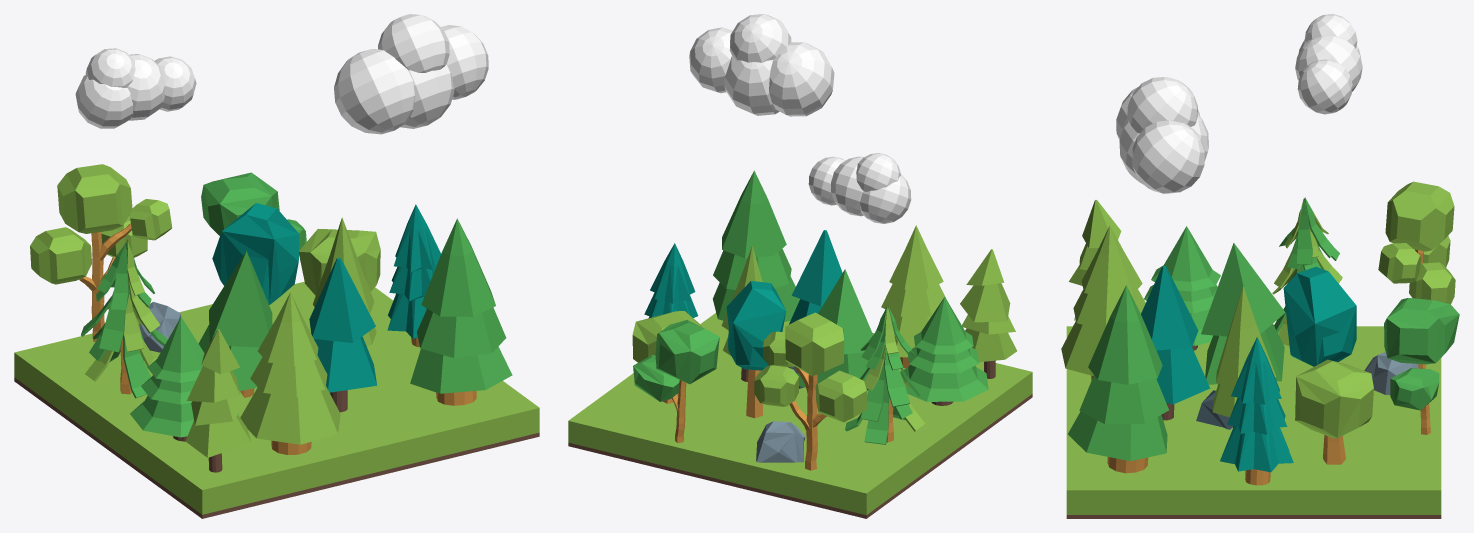
Rendered from tree.gltf.
3 renders of one model, left to right at view 1: azimuth 30°, elevation 25°; view 2: azimuth 150°, elevation 25°; view 3: azimuth 270°, elevation 25°, orthographic. The views are drawn at different scales.
Visible parts, largest first — view 1: group833803046, group1795976569, group720331588, group373735999, group1958235271, group601634601, group874600975, group2112331936, group1206298165, group1610579876, group546125134, group2102696020 (+5 smaller); view 2: group833803046, group1795976569, group373735999, group720331588, group2102696020, group601634601, group874600975, group1114869579, group1206298165, group1958235271, group1610579876, group546125134 (+5 smaller); view 3: group833803046, group720331588, group1795976569, group373735999, group1114869579, group100681590, group1206298165, group1932686607, group1958235271, group2112331936, group601634601, group546125134 (+6 smaller).
Part boxes in pixels (x1=…): group833803046: x1=14, y1=281, x2=539, y2=518; group1795976569: x1=334, y1=14, x2=488, y2=134; group720331588: x1=410, y1=218, x2=512, y2=405; group373735999: x1=30, y1=164, x2=172, y2=341; group1958235271: x1=240, y1=292, x2=340, y2=454; group601634601: x1=75, y1=48, x2=196, y2=128; group874600975: x1=81, y1=239, x2=167, y2=398; group2112331936: x1=309, y1=257, x2=376, y2=412; group1206298165: x1=212, y1=203, x2=299, y2=304; group1610579876: x1=185, y1=329, x2=251, y2=472; group546125134: x1=198, y1=251, x2=272, y2=397; group2102696020: x1=130, y1=317, x2=238, y2=441; group833803046: x1=568, y1=313, x2=1032, y2=518; group1795976569: x1=689, y1=14, x2=834, y2=116; group373735999: x1=754, y1=312, x2=867, y2=470; group720331588: x1=713, y1=170, x2=799, y2=321; group2102696020: x1=900, y1=297, x2=988, y2=405; group601634601: x1=808, y1=153, x2=911, y2=223; group874600975: x1=845, y1=305, x2=925, y2=444; group1114869579: x1=633, y1=320, x2=719, y2=442; group1206298165: x1=726, y1=281, x2=786, y2=418; group1958235271: x1=881, y1=225, x2=946, y2=368; group1610579876: x1=960, y1=249, x2=1016, y2=378; group546125134: x1=797, y1=269, x2=872, y2=387; group833803046: x1=1066, y1=326, x2=1441, y2=518; group720331588: x1=1068, y1=285, x2=1168, y2=473; group1795976569: x1=1116, y1=77, x2=1208, y2=193; group373735999: x1=1378, y1=181, x2=1455, y2=304; group1114869579: x1=1384, y1=298, x2=1459, y2=434; group100681590: x1=1220, y1=337, x2=1293, y2=485; group1206298165: x1=1283, y1=266, x2=1356, y2=366; group1932686607: x1=1295, y1=359, x2=1373, y2=464; group1958235271: x1=1061, y1=225, x2=1145, y2=380; group2112331936: x1=1141, y1=266, x2=1210, y2=420; group601634601: x1=1295, y1=14, x2=1362, y2=114; group546125134: x1=1201, y1=243, x2=1285, y2=384.
Bounding box in the file's own units: 0.8954 × 0.9811 × 0.883.
